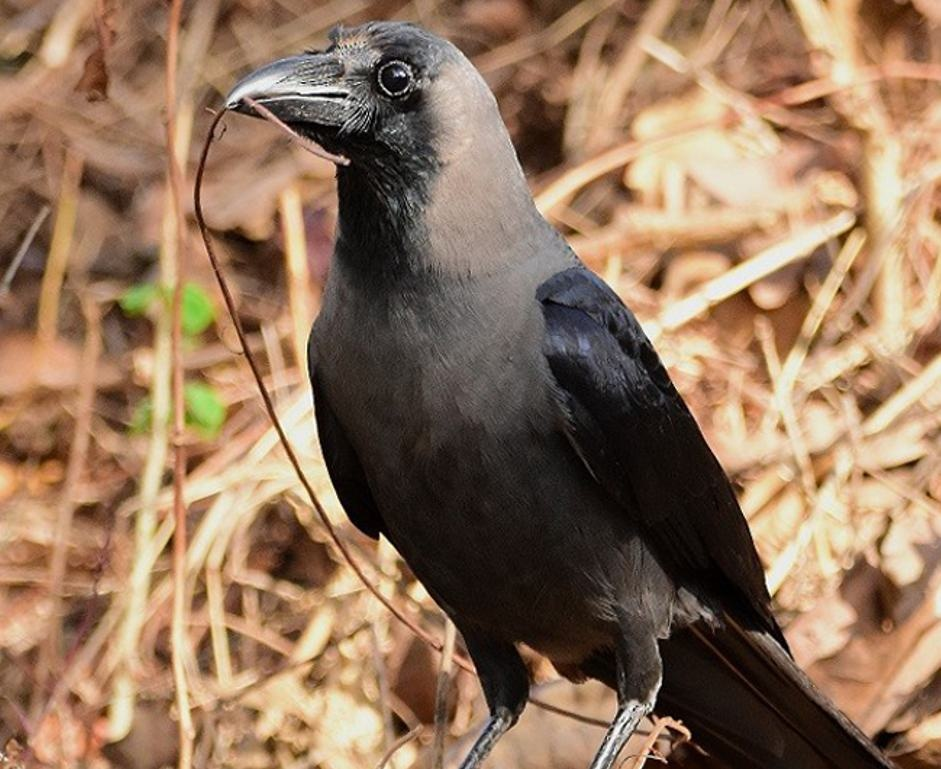crow: (213, 13, 900, 769)
